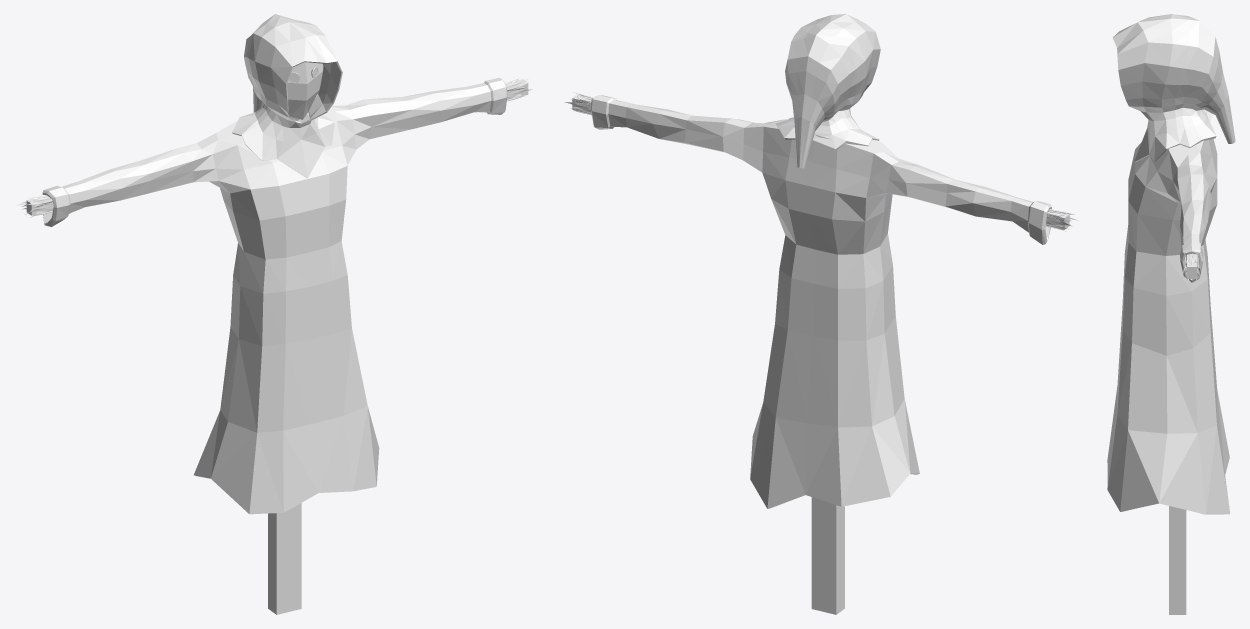
File: Prop_Scarecrow_03.glb
The picture shows the model from 3 angles, left to right: view 1: azimuth 30°, elevation 25°; view 2: azimuth 150°, elevation 25°; view 3: azimuth 270°, elevation 25°; orthographic projection.
Parts seen in each view (by area): view 1: Prop_Scarecrow_03; view 2: Prop_Scarecrow_03; view 3: Prop_Scarecrow_03.
Part boxes in pixels (left/top/right/bottom): Prop_Scarecrow_03: left=15, top=14, right=532, bottom=614; Prop_Scarecrow_03: left=564, top=14, right=1078, bottom=614; Prop_Scarecrow_03: left=1107, top=14, right=1235, bottom=614.
Size of the model in its own units: 1.99 by 2.18 by 0.4289.
1 material, 1 textured.
